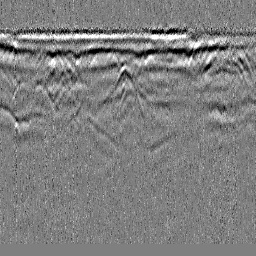cavity: (106, 62, 147, 100)
